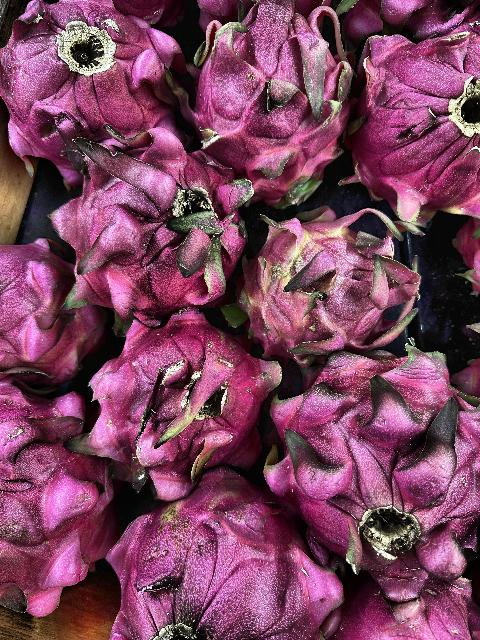buah-naga-belum-matang: (234, 206, 422, 354)
buah-naga-matang: (272, 332, 480, 582), (39, 128, 251, 318), (109, 482, 355, 640), (86, 310, 288, 486), (188, 1, 354, 200), (0, 0, 190, 162), (0, 368, 114, 616), (352, 18, 480, 224), (0, 238, 104, 392), (348, 576, 480, 640)
